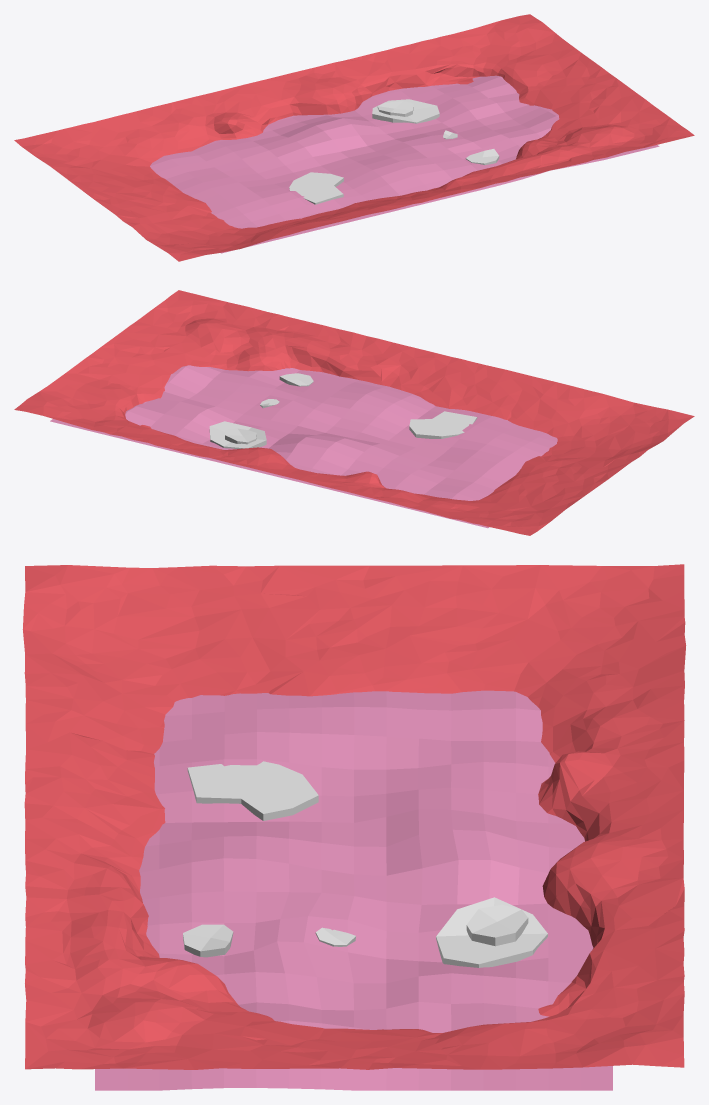
File: water1.fbx
3 renders of one model, top to bottom at view 1: azimuth 30°, elevation 25°; view 2: azimuth 150°, elevation 25°; view 3: azimuth 270°, elevation 25°, orthographic. The views are drawn at different scales.
Visible parts, largest first — view 1: water; view 2: water; view 3: water.
Boxes of the visible parts, left/top/right/bottom form: water: left=14, top=14, right=694, bottom=261; water: left=14, top=290, right=694, bottom=535; water: left=22, top=564, right=686, bottom=1090.
Size of the model in its own units: 30601 by 2848 by 17005.
